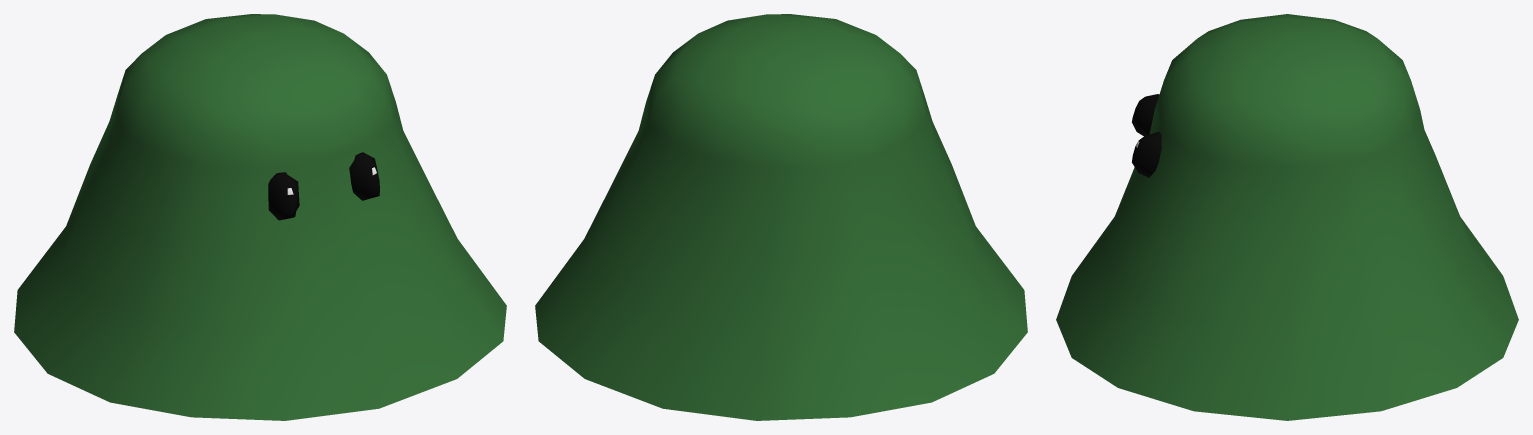
File: hill.glb
3 renders of one model, left to right at view 1: azimuth 30°, elevation 25°; view 2: azimuth 150°, elevation 25°; view 3: azimuth 270°, elevation 25°, orthographic. The views are drawn at different scales.
Visible parts, largest first — view 1: Cube, Cube.001; view 2: Cube; view 3: Cube, Cube.001.
Boxes of the visible parts, left/top/right/bottom form: Cube: left=14, top=14, right=506, bottom=420; Cube.001: left=268, top=152, right=379, bottom=220; Cube: left=535, top=14, right=1027, bottom=420; Cube: left=1056, top=14, right=1518, bottom=420; Cube.001: left=1132, top=94, right=1161, bottom=177.
Bounding box in the file's own units: 9.71 × 6.29 × 9.38.
